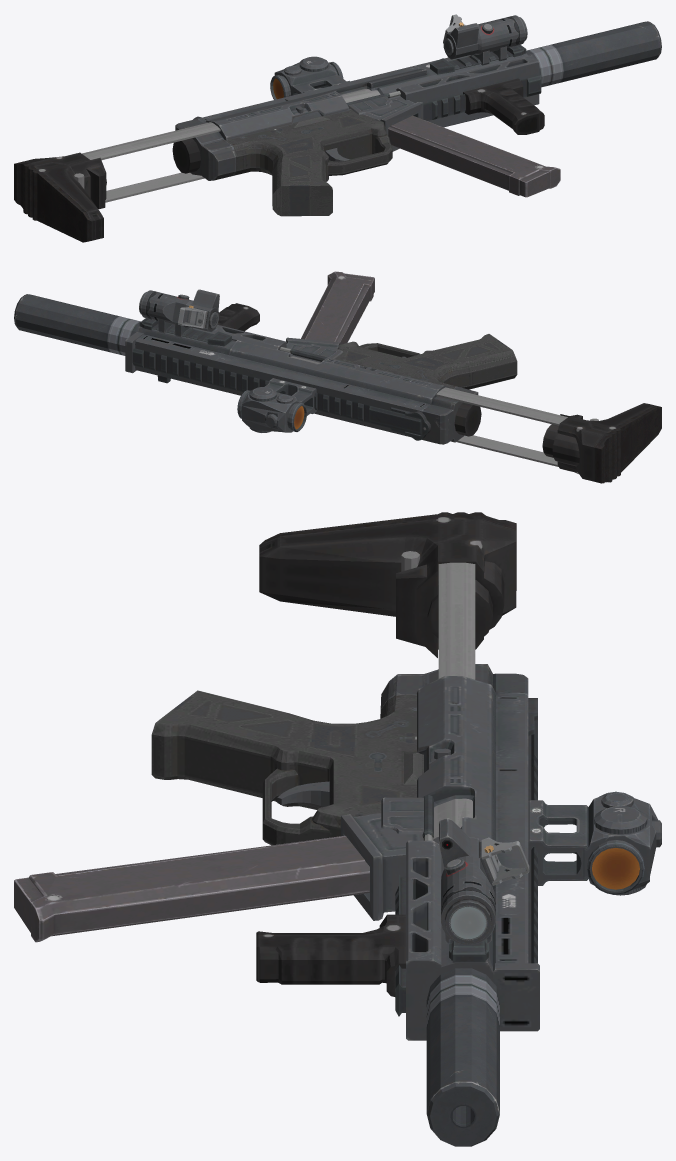
3 views of the same model, one above another, from view 1: azimuth 30°, elevation 25°; view 2: azimuth 150°, elevation 25°; view 3: azimuth 270°, elevation 25° (orthographic). The views are drawn at different scales.
Parts seen in each view (by area): view 1: wp01b_a001a_sm.mo, wp01b_magazine001a_sm.mo, wp01b_muzzle001a_sm.mo, wp01b_attach001a_sm.mo, wp01b_scope001a_sm.mo; view 2: wp01b_a001a_sm.mo, wp01b_muzzle001a_sm.mo, wp01b_magazine001a_sm.mo, wp01b_scope001a_sm.mo, wp01b_attach001a_sm.mo; view 3: wp01b_a001a_sm.mo, wp01b_magazine001a_sm.mo, wp01b_muzzle001a_sm.mo, wp01b_scope001a_sm.mo, wp01b_attach001a_sm.mo.
Part boxes in pixels (bbox=[...]): wp01b_a001a_sm.mo: bbox=[14, 44, 544, 242]; wp01b_magazine001a_sm.mo: bbox=[388, 115, 560, 197]; wp01b_muzzle001a_sm.mo: bbox=[526, 21, 661, 87]; wp01b_attach001a_sm.mo: bbox=[443, 14, 527, 65]; wp01b_scope001a_sm.mo: bbox=[270, 56, 349, 99]; wp01b_a001a_sm.mo: bbox=[125, 303, 661, 483]; wp01b_muzzle001a_sm.mo: bbox=[14, 294, 140, 355]; wp01b_magazine001a_sm.mo: bbox=[301, 271, 374, 344]; wp01b_scope001a_sm.mo: bbox=[237, 378, 316, 432]; wp01b_attach001a_sm.mo: bbox=[139, 289, 219, 337]; wp01b_a001a_sm.mo: bbox=[151, 512, 539, 1040]; wp01b_magazine001a_sm.mo: bbox=[14, 835, 369, 942]; wp01b_muzzle001a_sm.mo: bbox=[426, 968, 499, 1146]; wp01b_scope001a_sm.mo: bbox=[528, 791, 661, 895]; wp01b_attach001a_sm.mo: bbox=[439, 818, 529, 944].
Size of the model in its own units: 0.583 by 0.0815 by 0.2851.
Materials: 5 (5 with a texture image).
